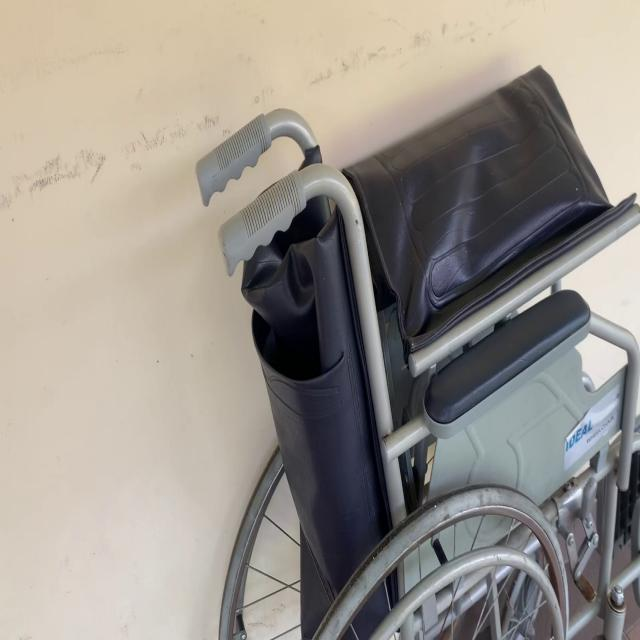wheelchair: (187, 4, 640, 640)
